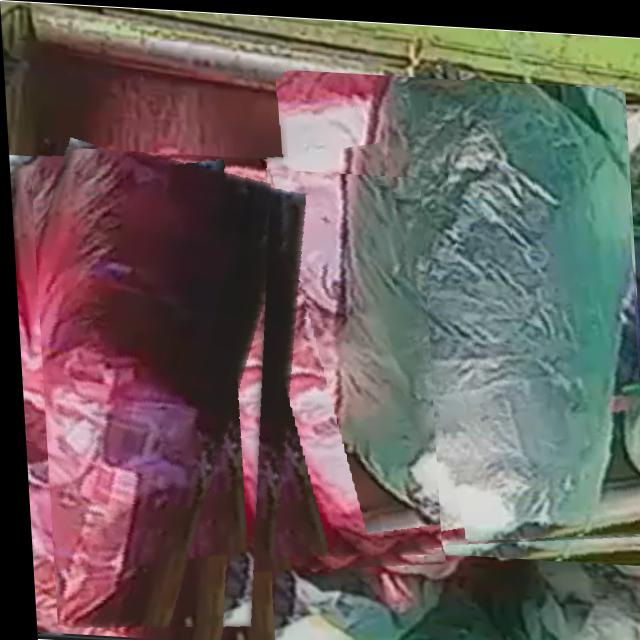general_trashbag: (321, 72, 629, 544)
other_trashbag: (136, 161, 435, 554), (34, 148, 270, 629)
